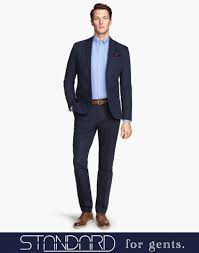F_M_suit jacket: (62, 33, 140, 127)
F_belt: (78, 96, 119, 108)
F_dress pants: (73, 105, 123, 217)
